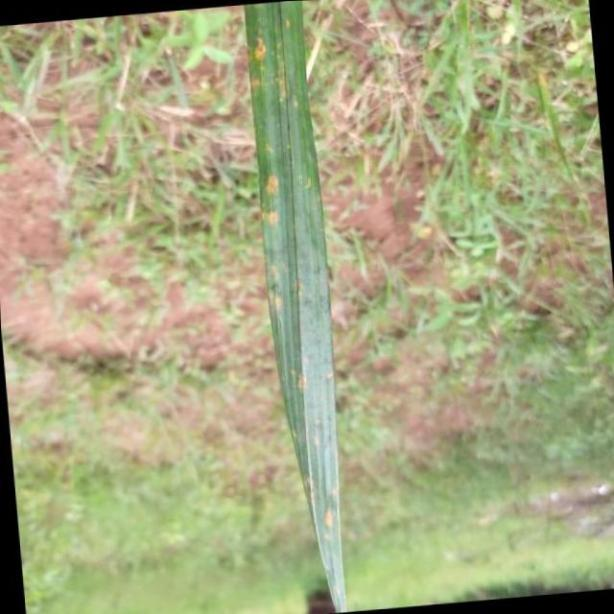Kalium: (243, 0, 350, 614)
